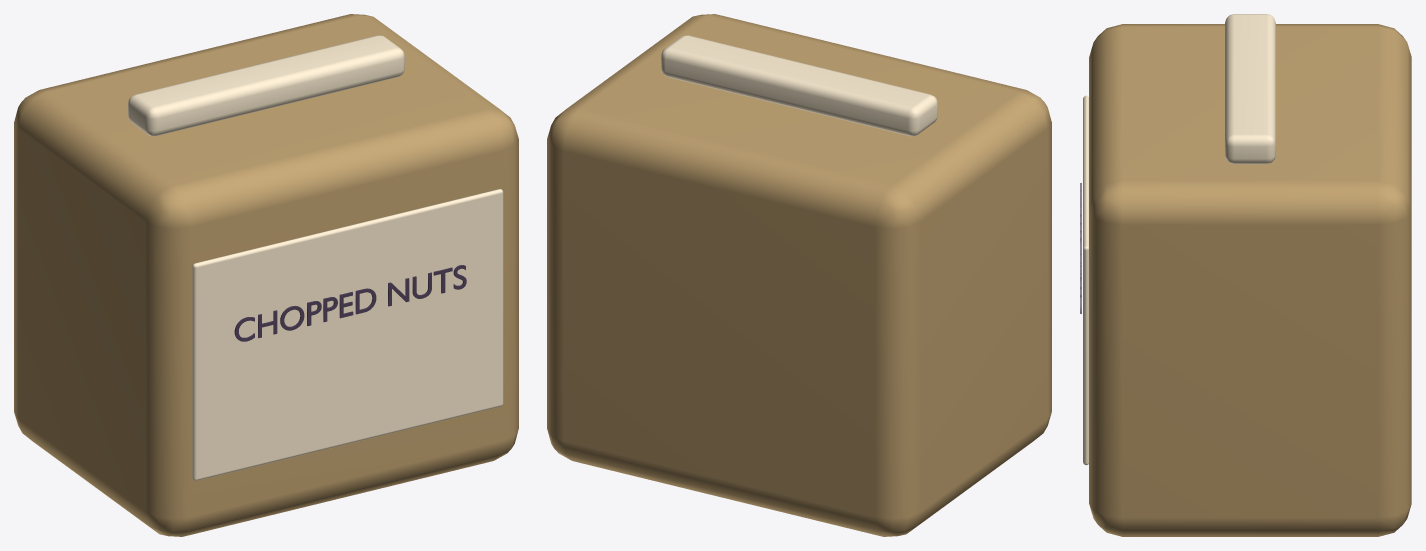
File: Chopped_nuts_refill.fbx
The picture shows the model from 3 angles, left to right: view 1: azimuth 30°, elevation 25°; view 2: azimuth 150°, elevation 25°; view 3: azimuth 270°, elevation 25°; orthographic projection.
Visible parts, largest first — view 1: Toon_Chopped_nuts_refill Rounded refill package.001, Toon_Chopped_nuts_refill Cream paper label.001, Toon_Chopped_nuts_refill Folded seal.001, Package contents.008; view 2: Toon_Chopped_nuts_refill Rounded refill package.001, Toon_Chopped_nuts_refill Folded seal.001; view 3: Toon_Chopped_nuts_refill Rounded refill package.001, Toon_Chopped_nuts_refill Folded seal.001, Toon_Chopped_nuts_refill Cream paper label.001.
Boxes of the visible parts, left/top/right/bottom form: Toon_Chopped_nuts_refill Rounded refill package.001: left=14, top=14, right=518, bottom=536; Toon_Chopped_nuts_refill Cream paper label.001: left=192, top=189, right=503, bottom=480; Toon_Chopped_nuts_refill Folded seal.001: left=128, top=35, right=404, bottom=136; Package contents.008: left=234, top=265, right=466, bottom=341; Toon_Chopped_nuts_refill Rounded refill package.001: left=547, top=14, right=1051, bottom=536; Toon_Chopped_nuts_refill Folded seal.001: left=661, top=35, right=937, bottom=136; Toon_Chopped_nuts_refill Rounded refill package.001: left=1089, top=24, right=1411, bottom=536; Toon_Chopped_nuts_refill Folded seal.001: left=1225, top=14, right=1275, bottom=164; Toon_Chopped_nuts_refill Cream paper label.001: left=1083, top=95, right=1088, bottom=465.
Bounding box in the file's own units: 32 × 31.4 × 24.66.
